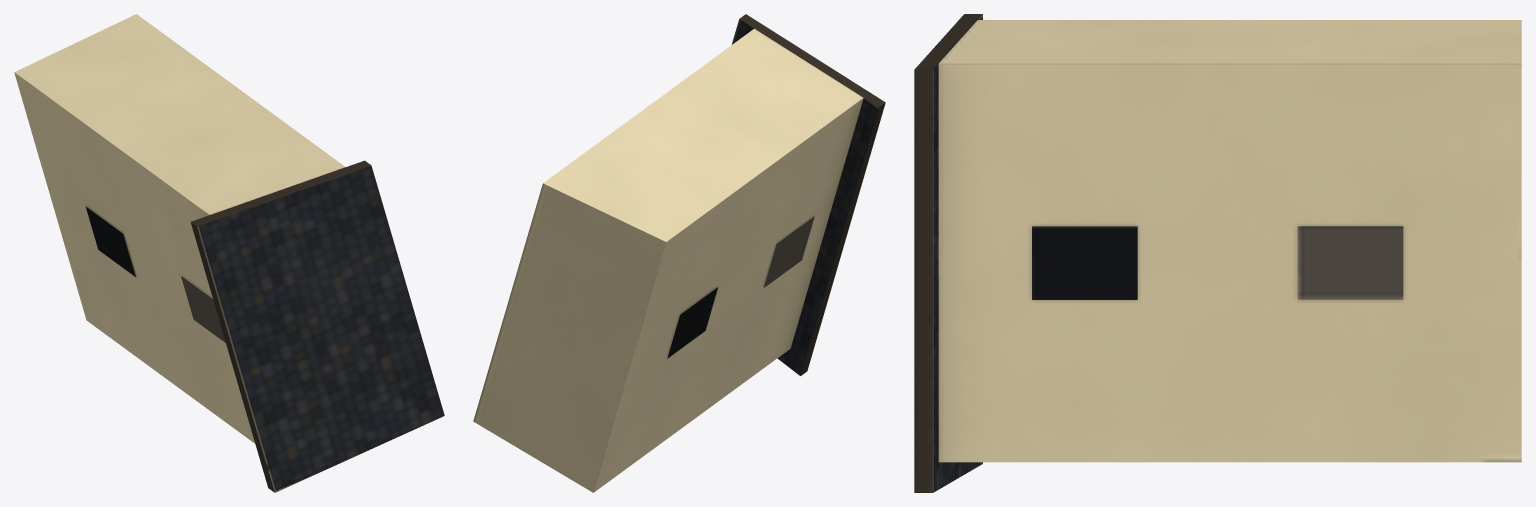
File: house_b0476.obj
3 views of the same model, side by side, from view 1: azimuth 30°, elevation 25°; view 2: azimuth 150°, elevation 25°; view 3: azimuth 270°, elevation 25° (orthographic). The views are drawn at different scales.
Visible parts, largest first — view 1: house_b0476; view 2: house_b0476; view 3: house_b0476.
Boxes of the visible parts, <box> form: house_b0476: <box>14,14,444,492</box>; house_b0476: <box>473,14,885,492</box>; house_b0476: <box>914,14,1521,492</box>.
Bounding box in the file's own units: 4.73 × 6.32 × 7.77.
Materials: 1 (1 with a texture image).
